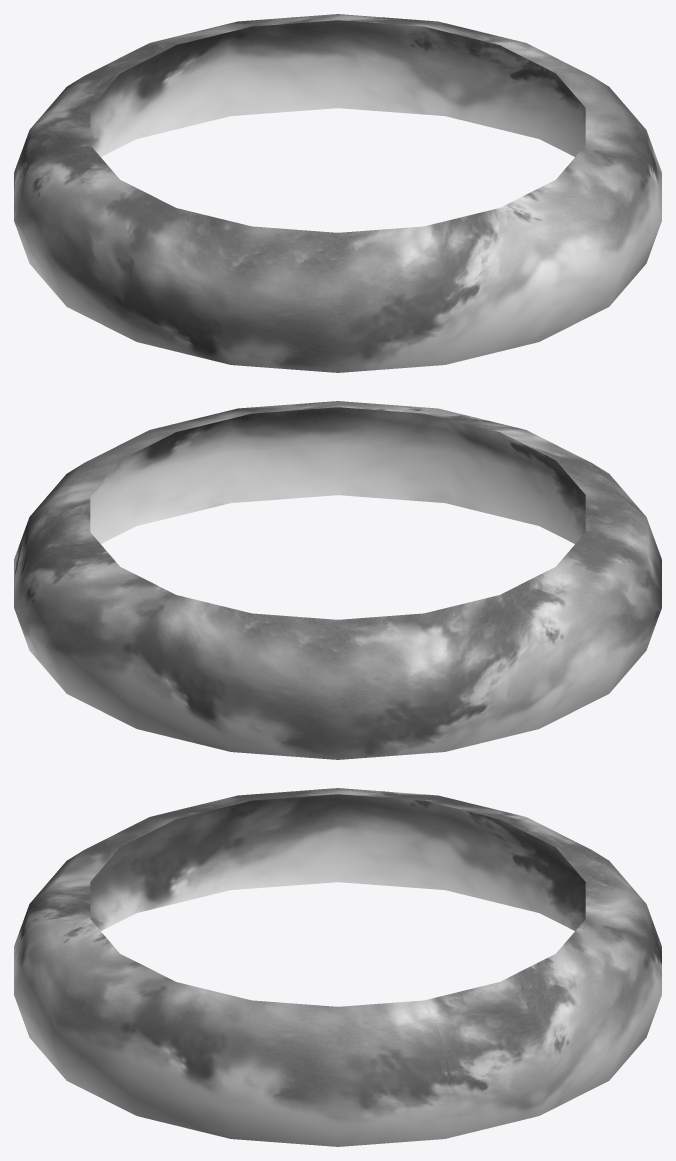
The model's file is pir_m_efx_chr_auraBurstA.fbx.
3 views of the same model, one above another, from view 1: azimuth 30°, elevation 25°; view 2: azimuth 150°, elevation 25°; view 3: azimuth 270°, elevation 25° (orthographic).
Parts seen in each view (by area): view 1: ring; view 2: ring; view 3: ring.
Part boxes in pixels (box(x1,y1,x2,y2)): ring: box(14, 14, 661, 372); ring: box(14, 401, 661, 759); ring: box(14, 788, 661, 1146).
Size of the model in its own units: 1600 by 306 by 1576.
Materials: 1 (1 with a texture image).
